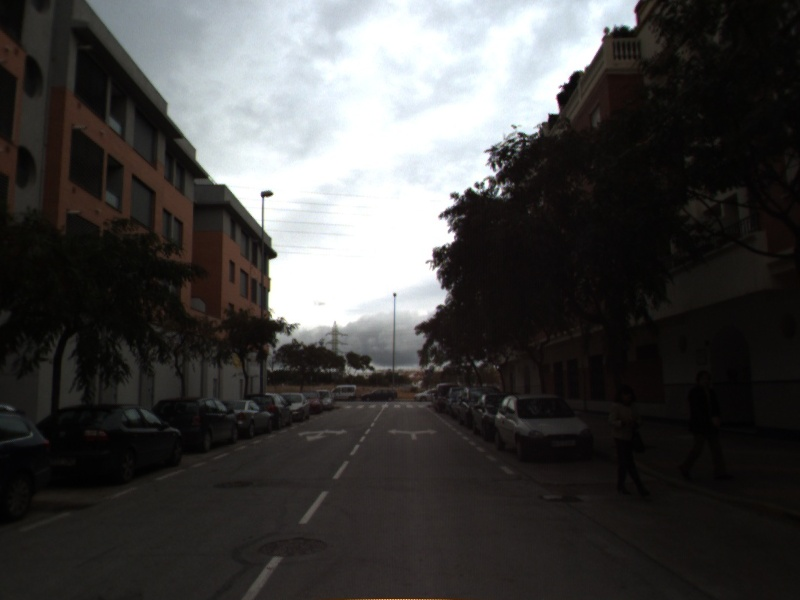LEFT_RIGHT: (386, 426, 441, 442)
